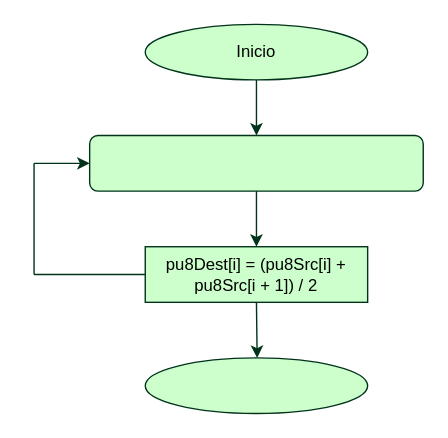
Image size: 448x438. Some labels were removed from this diagram. The shapes that lost their labels are listed below. From the top down, each one's centre as x and y in pixels, then its label:
(x=255, y=162): for ( int i = 0; i < VARIABLE_CHAR_HIGH_TRESHOLD; i++)
(x=256, y=385): Fin
